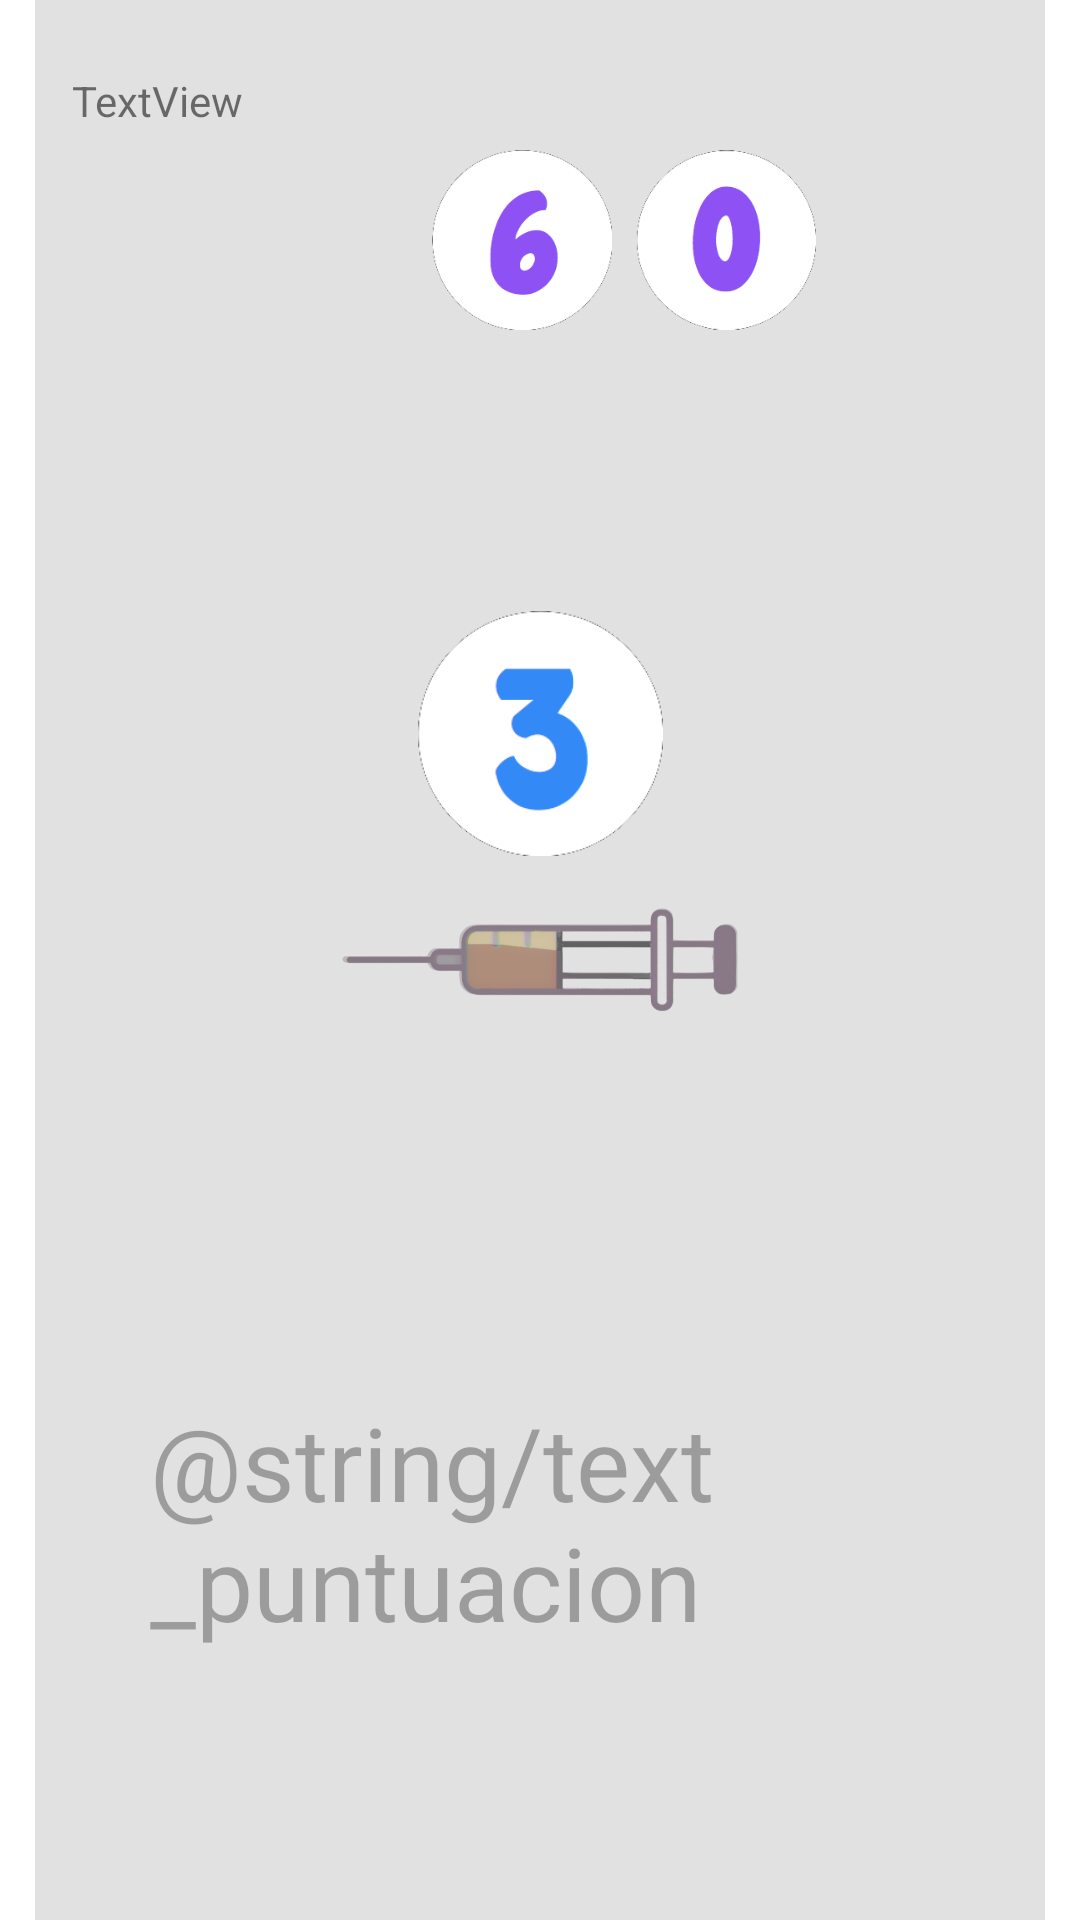

Named icons in this screenshot (1080 x 1920) and their bounding boxes, [left=x1, top=y1, right=x2, bottom=y2]:
number: [left=432, top=150, right=612, bottom=330], [left=637, top=150, right=816, bottom=330], [left=418, top=611, right=663, bottom=856]
